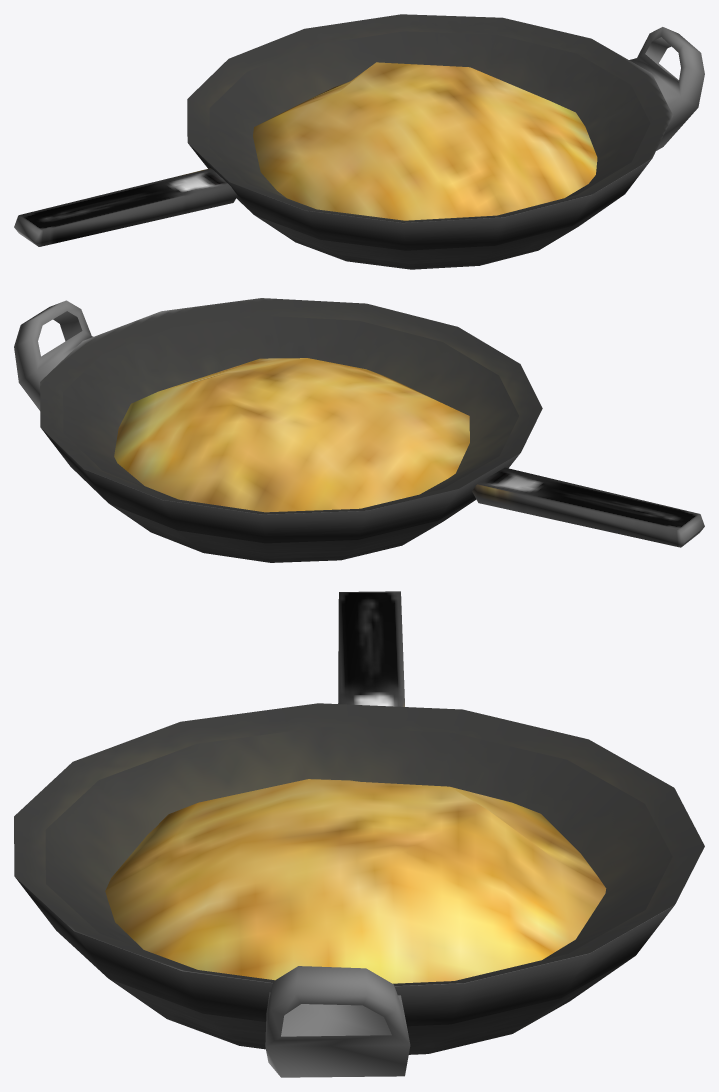
File: Wokpan_Full.fbx
3 views of the same model, one above another, from view 1: azimuth 30°, elevation 25°; view 2: azimuth 150°, elevation 25°; view 3: azimuth 270°, elevation 25° (orthographic). The views are drawn at different scales.
Parts seen in each view (by area): view 1: Wokpan; view 2: Wokpan; view 3: Wokpan.
Boxes of the visible parts, x1,y1,x2,y2 form: Wokpan: (14, 14, 704, 269); Wokpan: (14, 298, 704, 562); Wokpan: (14, 591, 704, 1077).
Bounding box in the file's own units: 86.2 × 14.34 × 55.5.
